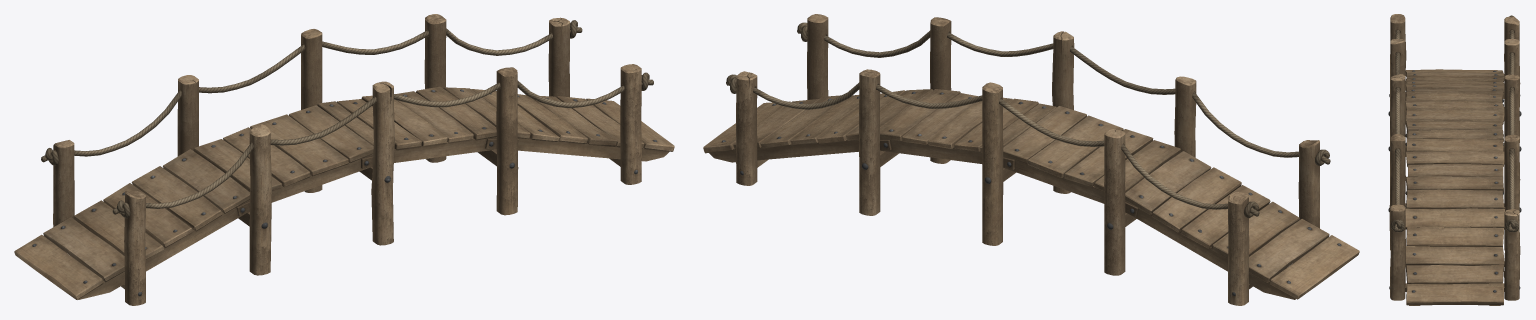
Rendered from bridge.glb.
3 views of the same model, side by side, from view 1: azimuth 30°, elevation 25°; view 2: azimuth 150°, elevation 25°; view 3: azimuth 270°, elevation 25° (orthographic). The views are drawn at different scales.
Parts seen in each view (by area): view 1: Planks, beams, ropes, beams_for_planks, bolts, beams_holder; view 2: Planks, beams, ropes, beams_for_planks, bolts, beams_holder; view 3: Planks, beams, ropes, bolts, beams_holder.
Part boxes in pixels (x1,y1,x2,y2): Planks: (14,86,674,299); beams: (53,14,641,305); ropes: (41,20,653,218); beams_for_planks: (64,137,669,299); bolts: (32,89,657,296); beams_holder: (121,149,620,289); Planks: (703,89,1359,299); beams: (736,14,1319,305); ropes: (726,22,1330,217); beams_for_planks: (709,139,1295,299); bolts: (722,91,1341,295); beams_holder: (757,150,1252,289); Planks: (1405,69,1504,305); beams: (1389,14,1520,300); ropes: (1390,15,1518,232); bolts: (1388,70,1521,292); beams_holder: (1405,92,1505,291).
Size of the model in its own units: 10.19 by 2.54 by 2.45.
2 materials, 2 textured.
